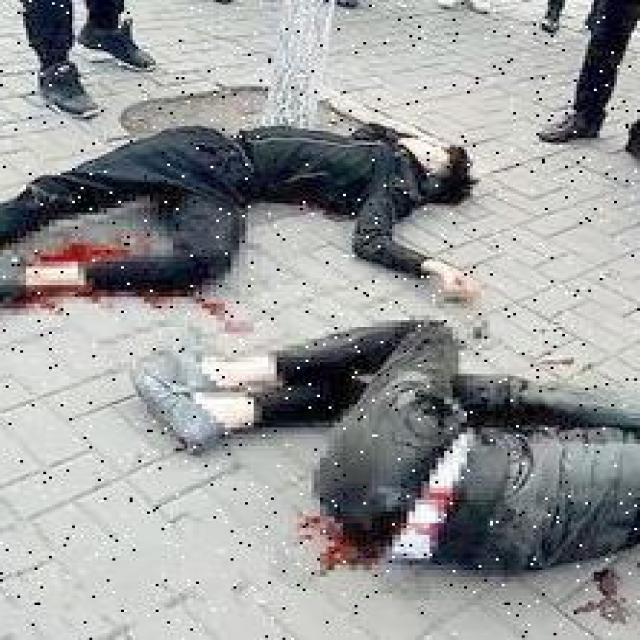fall: (3, 124, 473, 308)
